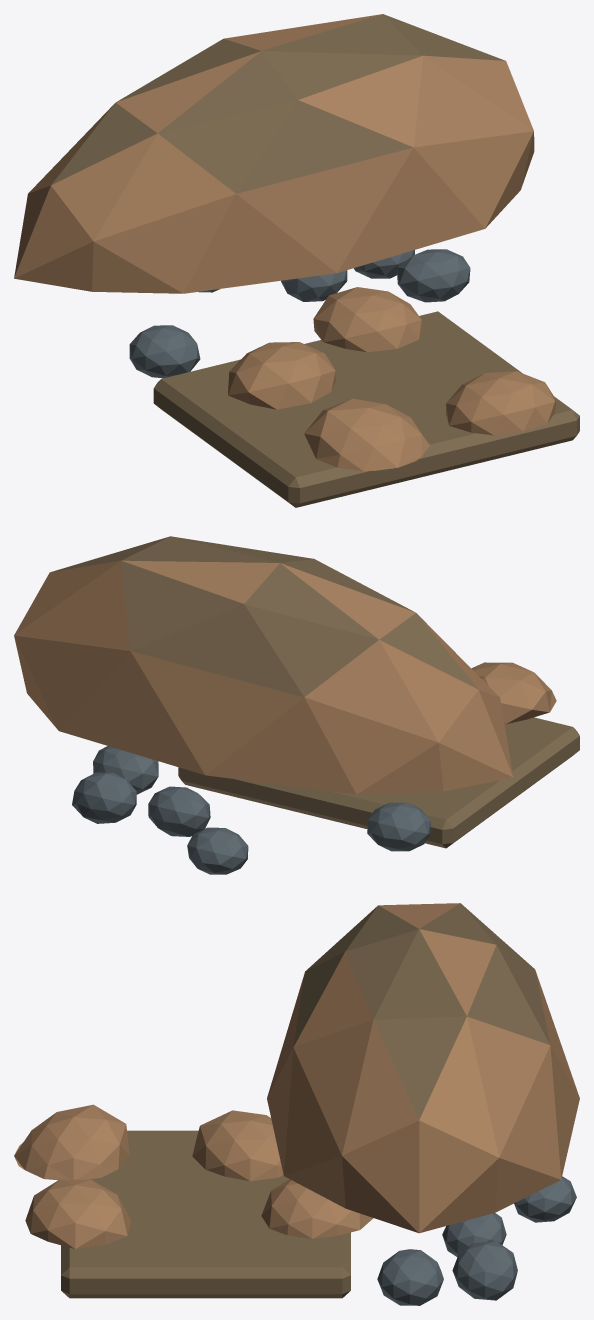
The model's file is clay_deposit.glb.
3 views of the same model, one above another, from view 1: azimuth 30°, elevation 25°; view 2: azimuth 150°, elevation 25°; view 3: azimuth 270°, elevation 25° (orthographic). The views are drawn at different scales.
Parts seen in each view (by area): view 1: clay_deposit.001; view 2: clay_deposit.001; view 3: clay_deposit.001.
Boxes of the visible parts, x1,y1,x2,y2 form: clay_deposit.001: [14, 14, 579, 507]; clay_deposit.001: [14, 536, 579, 874]; clay_deposit.001: [14, 903, 579, 1305].
Bounding box in the file's own units: 0.92 × 0.5016 × 0.8551.
